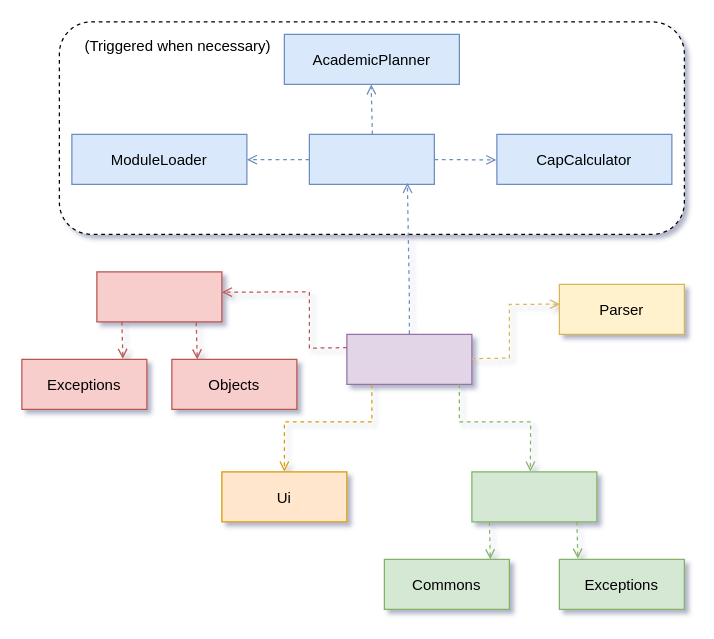
This 714x639 diagram has some shape labels left out. Each missing label, with the box of its shape:
Apps: (308, 133, 434, 184)
Global: (96, 271, 222, 322)
PlanNus: (346, 333, 472, 384)
Storage: (471, 471, 597, 522)
